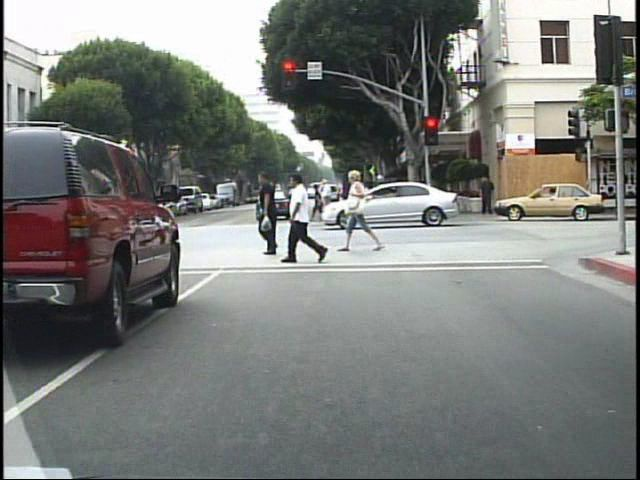person: (289, 171, 330, 267), (254, 169, 293, 262), (346, 166, 380, 255), (370, 168, 391, 226), (320, 175, 341, 222), (477, 169, 495, 218), (150, 181, 167, 232), (310, 181, 329, 226), (362, 177, 380, 223), (119, 182, 137, 228), (4, 193, 21, 238), (5, 199, 21, 236)
